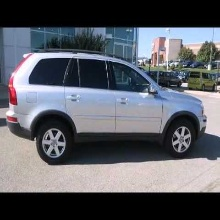no damage: (5, 51, 207, 164)
